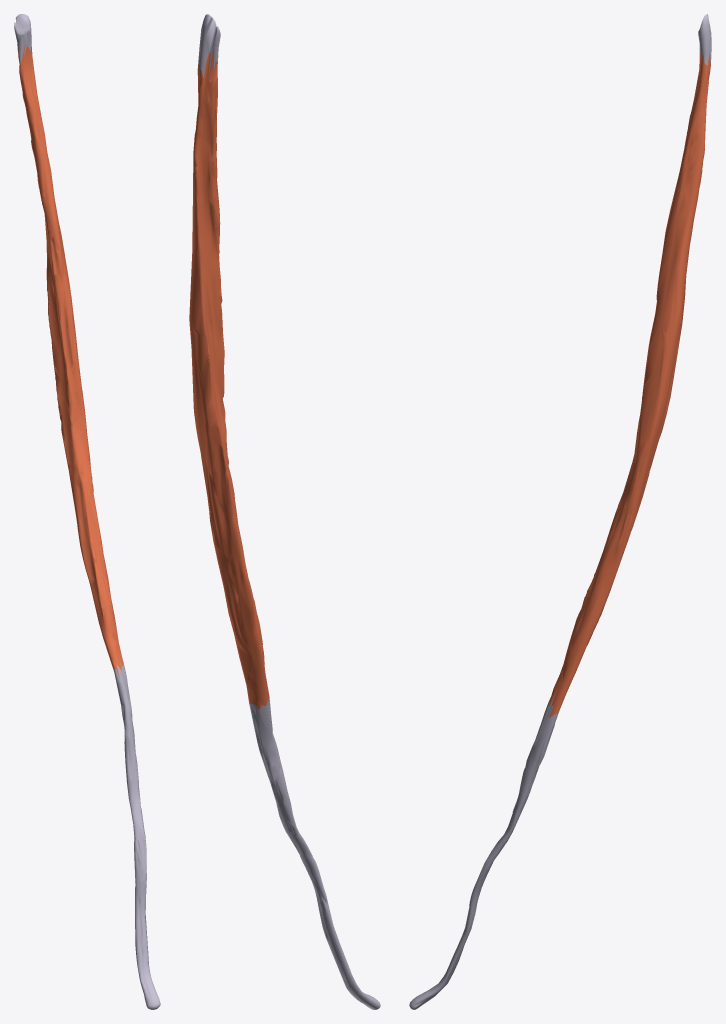
The model's file is Extensor_digiti_minimi.l_Generated_Mesh_From_X3D.974.glb.
The picture shows the model from 3 angles, left to right: view 1: azimuth 30°, elevation 25°; view 2: azimuth 150°, elevation 25°; view 3: azimuth 270°, elevation 25°; orthographic projection. The views are drawn at different scales.
Parts seen in each view (by area): view 1: Extensor_digiti_minimi.l_Generated_Mesh_From_X3D.974; view 2: Extensor_digiti_minimi.l_Generated_Mesh_From_X3D.974; view 3: Extensor_digiti_minimi.l_Generated_Mesh_From_X3D.974.
Boxes of the visible parts, left/top/right/bottom form: Extensor_digiti_minimi.l_Generated_Mesh_From_X3D.974: left=14, top=14, right=160, bottom=1009; Extensor_digiti_minimi.l_Generated_Mesh_From_X3D.974: left=189, top=14, right=380, bottom=1009; Extensor_digiti_minimi.l_Generated_Mesh_From_X3D.974: left=409, top=14, right=711, bottom=1009.
Bounding box in the file's own units: 0.0168 × 0.3359 × 0.0925.
